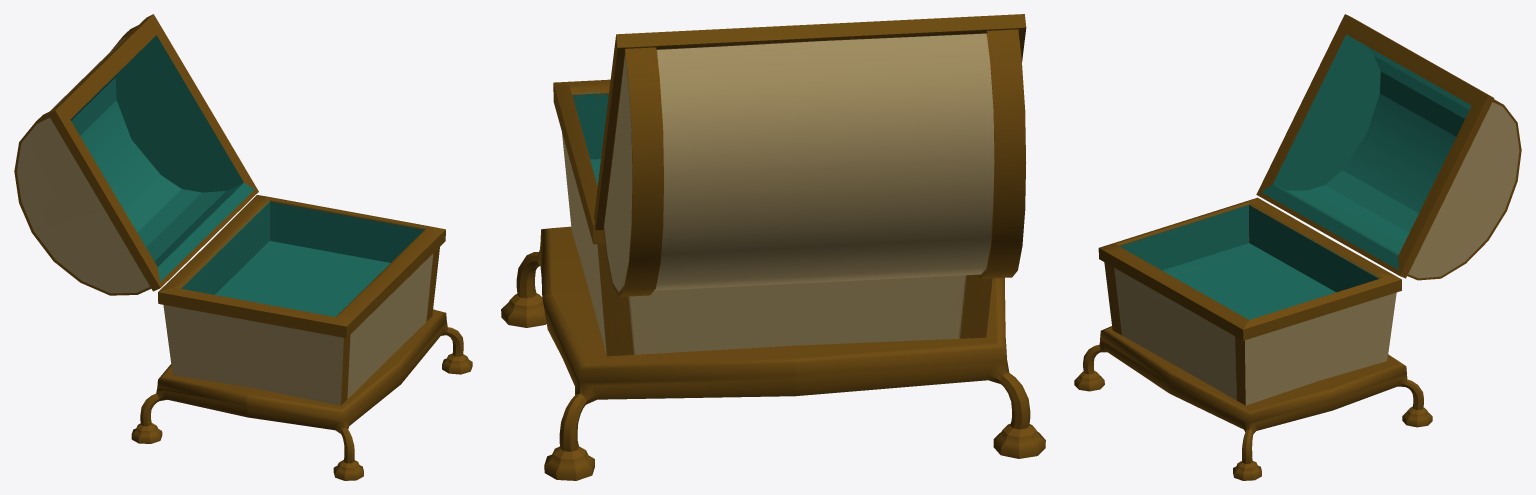
Rendered from Chest_w_Track.fbx.
The picture shows the model from 3 angles, left to right: view 1: azimuth 30°, elevation 25°; view 2: azimuth 150°, elevation 25°; view 3: azimuth 270°, elevation 25°; orthographic projection. The views are drawn at different scales.
Parts seen in each view (by area): view 1: chest_body, chest_lid, bottom; view 2: chest_lid, bottom, chest_body; view 3: chest_lid, chest_body, bottom.
Boxes of the visible parts, bbox=[...] form: chest_body: bbox=[158, 195, 445, 405]; chest_lid: bbox=[14, 14, 258, 295]; bottom: bbox=[131, 309, 472, 480]; chest_lid: bbox=[594, 14, 1026, 296]; bottom: bbox=[501, 226, 1045, 480]; chest_body: bbox=[553, 79, 992, 356]; chest_lid: bbox=[1256, 14, 1521, 280]; chest_body: bbox=[1098, 197, 1401, 405]; bottom: bbox=[1074, 326, 1432, 480].
Bounding box in the file's own units: 1.87 × 1.42 × 1.95.
1 material, 1 textured.
